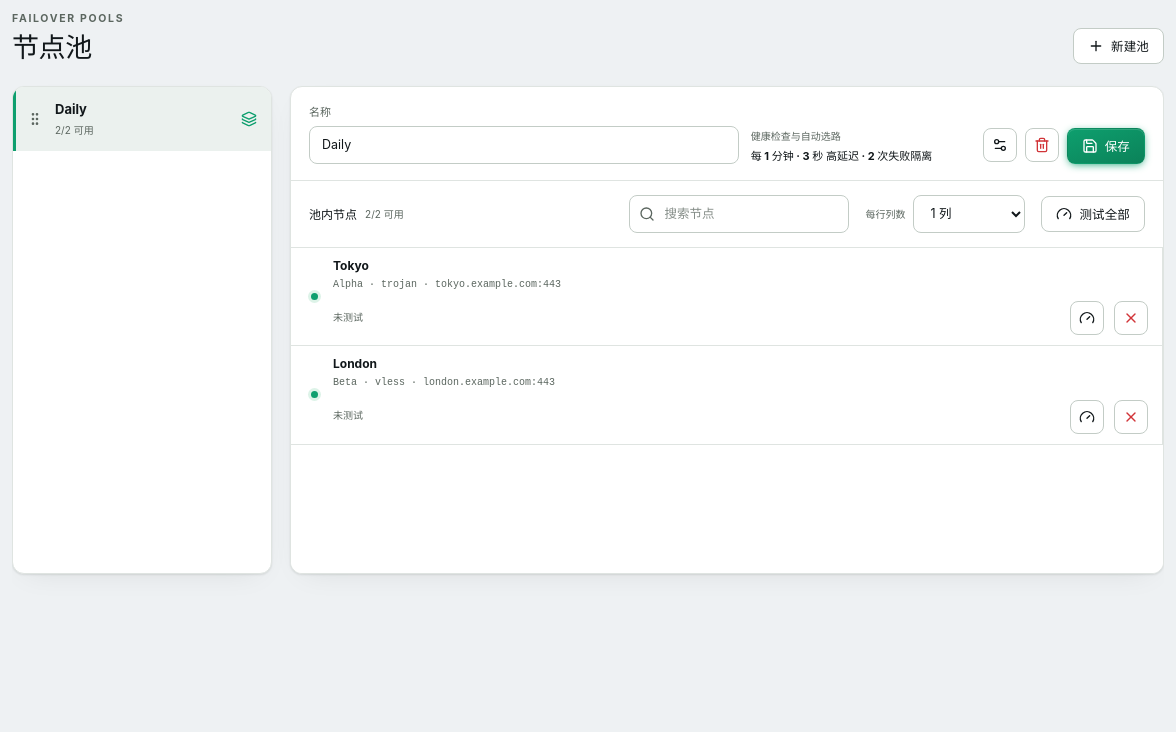
PoolsView › filters pool members by the search box
Expected: the text "Tokyo" is shown, x1=333 y1=258 x2=369 y2=272
Type "london" into the field named "搜索池内节点".
click(740, 214); type("london")  # box x1=630 y1=194 x2=850 y2=232
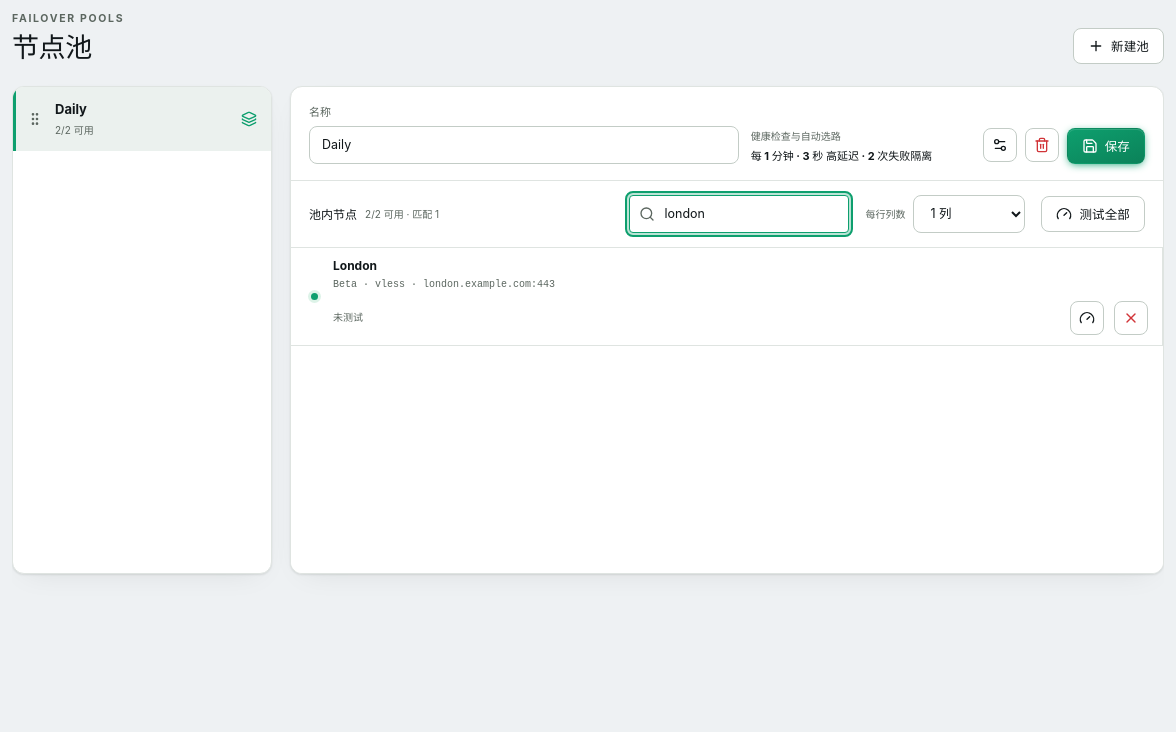
Expected: the text "London" is shown, x1=333 y1=258 x2=377 y2=272
Expected: the text "Tokyo" is gone
Replace the text in the field named "搜索池内节点" with "beta" at (740, 214), box x1=630 y1=194 x2=850 y2=232
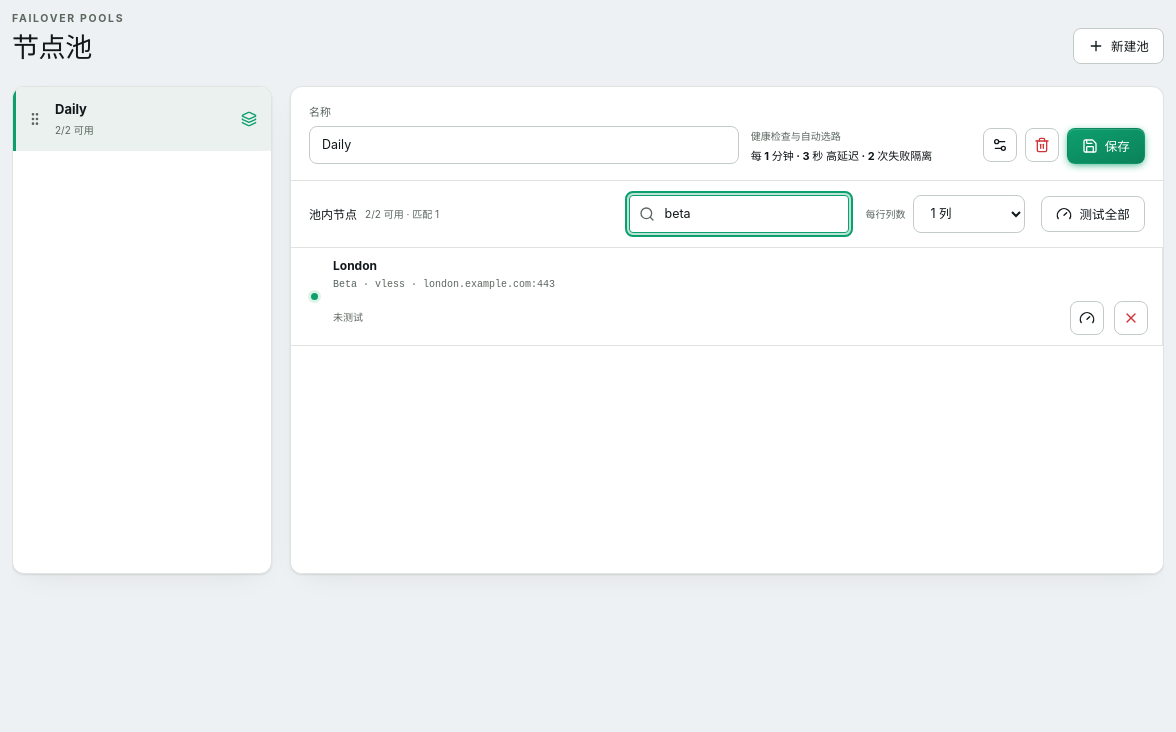
Expected: the text "London" is shown, x1=333 y1=258 x2=377 y2=272
Replace the text in the field named "搜索池内节点" with "不存在" at (740, 214), box x1=630 y1=194 x2=850 y2=232
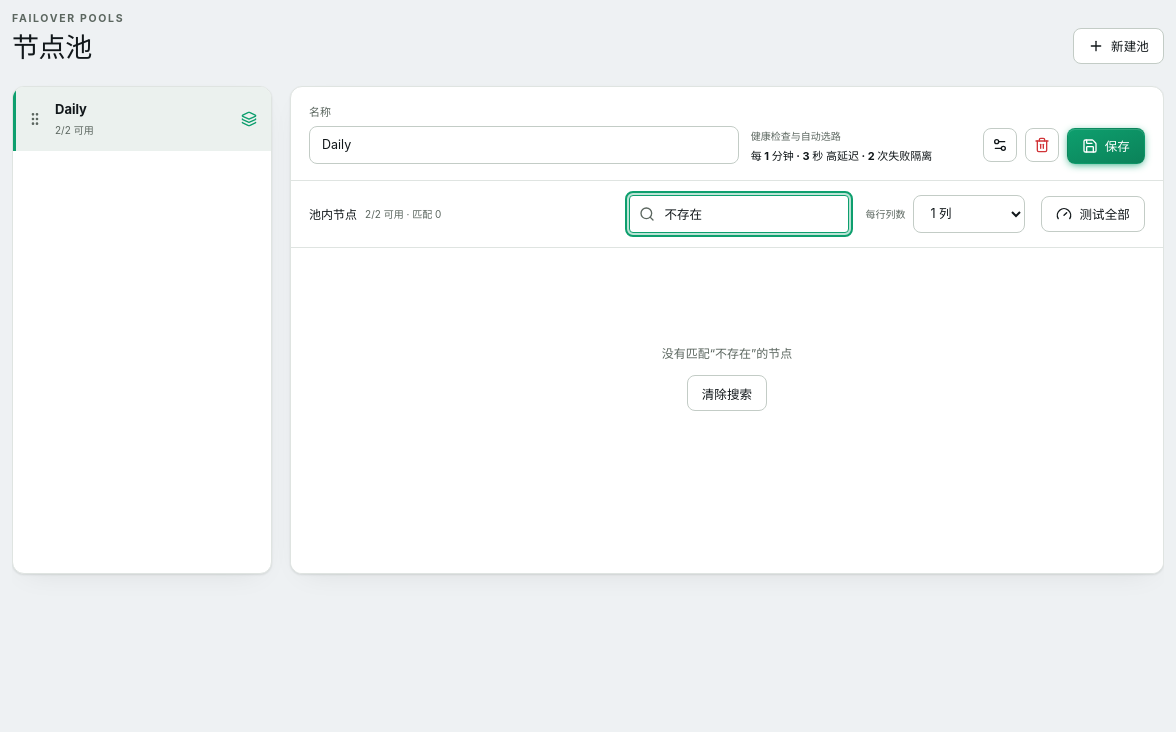
Expected: the text "没有匹配“不存在”的节点" is shown, x1=662 y1=344 x2=792 y2=361
Click the button "清除搜索".
click(727, 393)  # box x1=687 y1=375 x2=767 y2=411
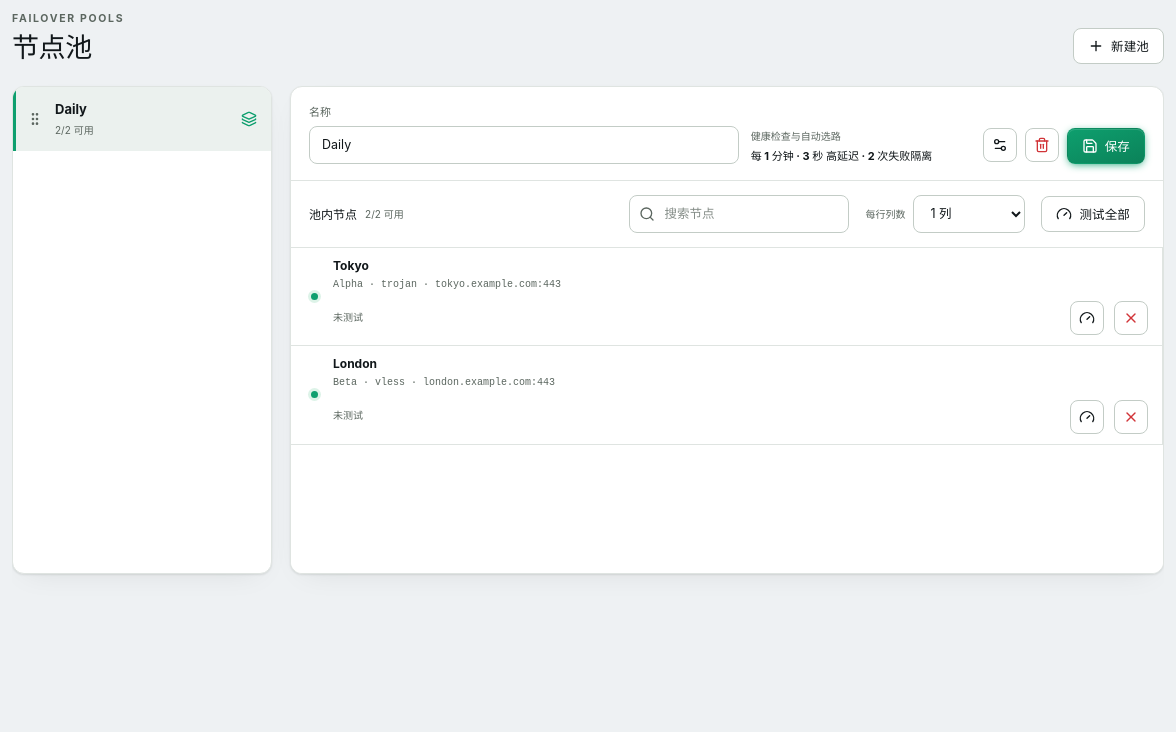
Expected: the text "Tokyo" is shown, x1=333 y1=258 x2=369 y2=272
Expected: the text "London" is shown, x1=333 y1=356 x2=377 y2=371
